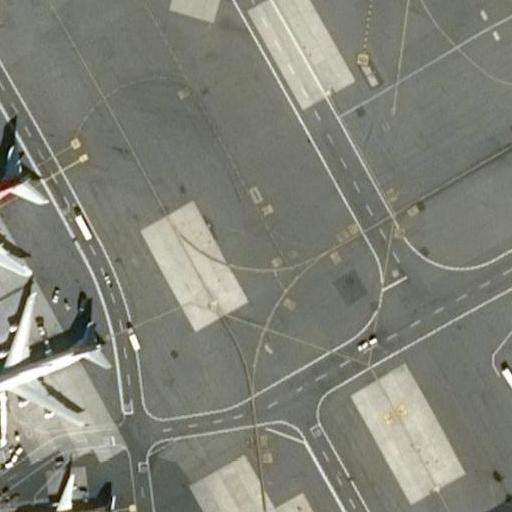Aircraft: (0, 284, 116, 420), (0, 104, 48, 275), (5, 461, 123, 512)
